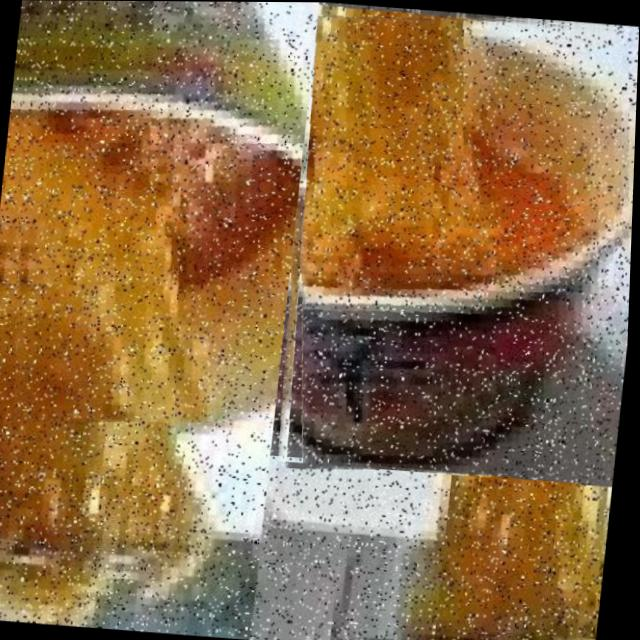Miscellaneous: (263, 2, 640, 486), (0, 0, 318, 441)
